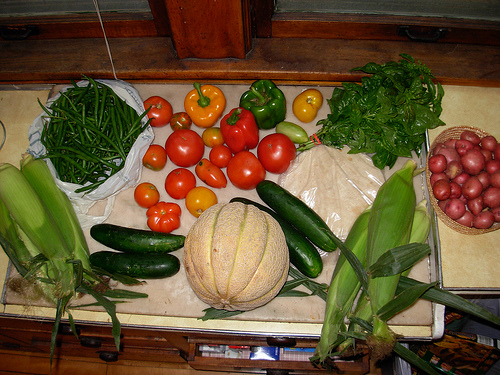cucumber: (230, 197, 323, 278), (256, 178, 338, 252), (84, 255, 194, 284), (91, 222, 186, 252)
